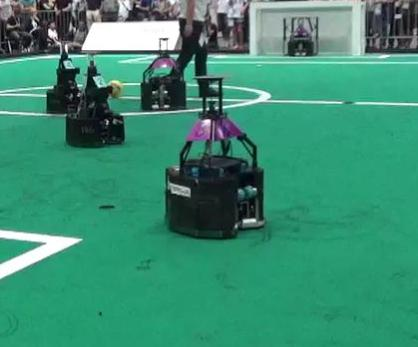robot: (162, 75, 266, 240), (64, 50, 127, 148), (138, 36, 189, 113), (43, 39, 86, 114)
